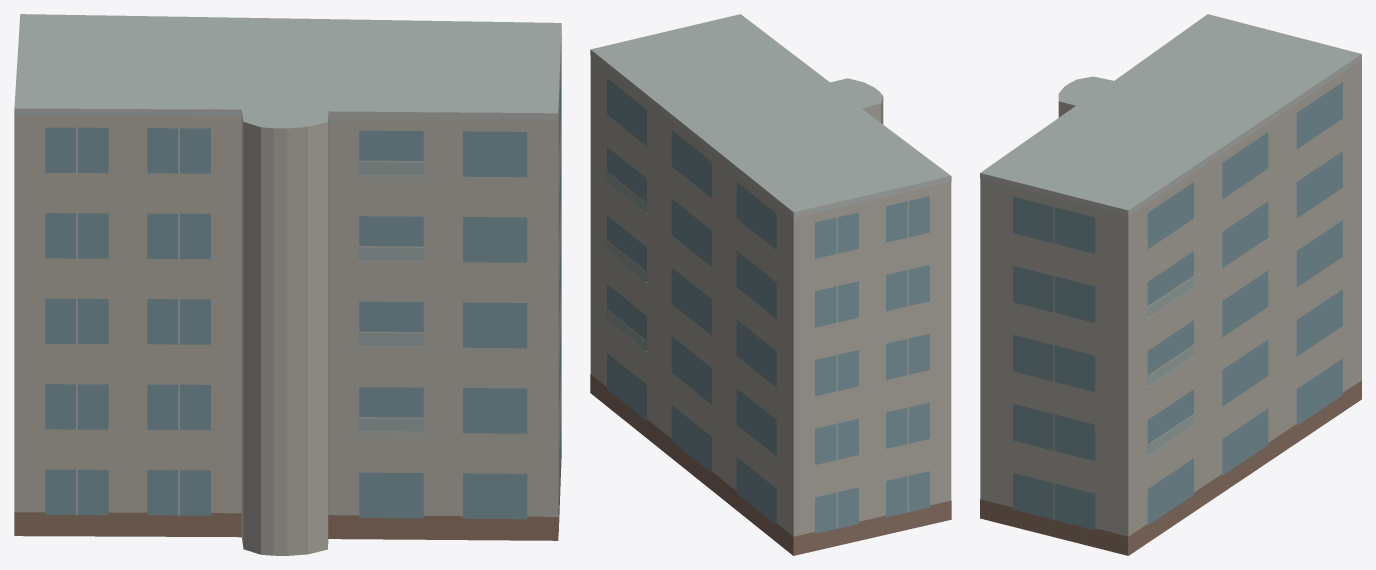
The model's file is survey-upis-32673772.glb.
3 views of the same model, side by side, from view 1: azimuth 30°, elevation 25°; view 2: azimuth 150°, elevation 25°; view 3: azimuth 270°, elevation 25° (orthographic). The views are drawn at different scales.
Visible parts, largest first — view 1: survey-upis-32673772.tmp; view 2: survey-upis-32673772.tmp; view 3: survey-upis-32673772.tmp.
Boxes of the visible parts, x1,y1,x2,y2 form: survey-upis-32673772.tmp: [14, 14, 561, 555]; survey-upis-32673772.tmp: [590, 14, 951, 555]; survey-upis-32673772.tmp: [980, 14, 1361, 555].
Bounding box in the file's own units: 17.69 × 14.5 × 14.53.
